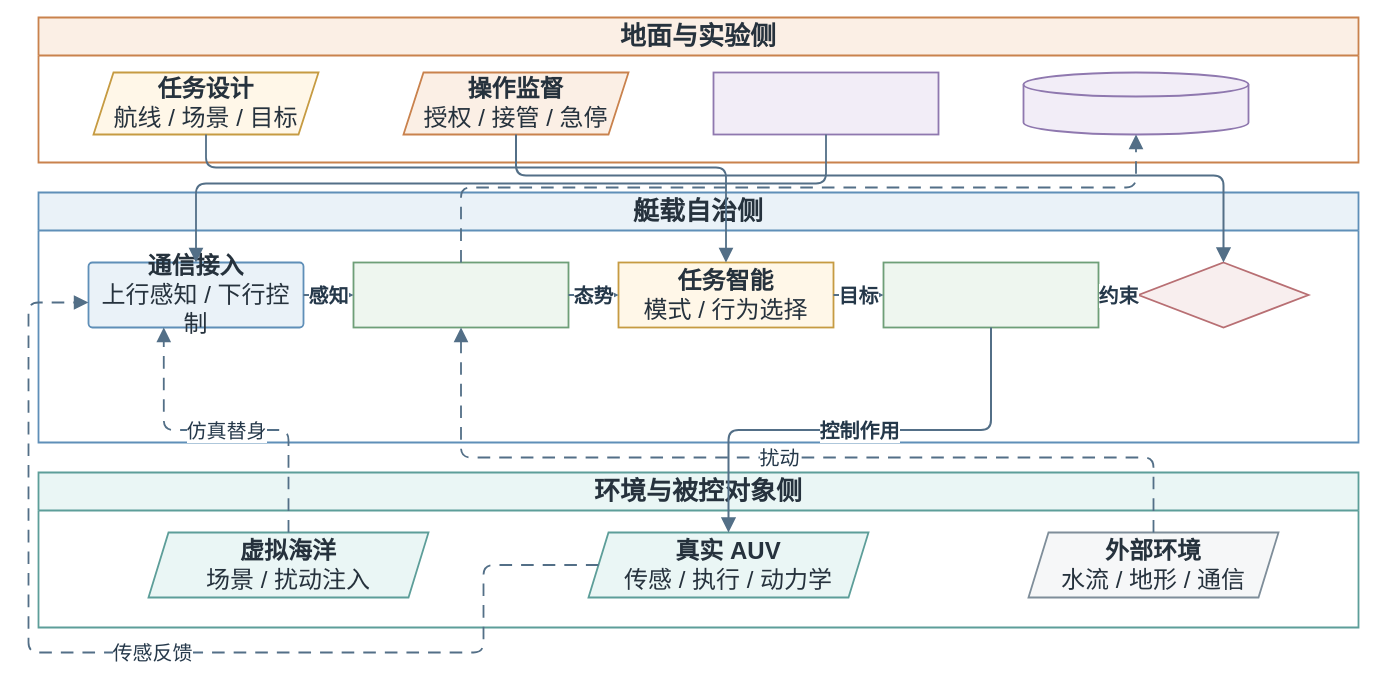
Image size: 1377x683. Some labels were removed from this diagram. Here are the shapes that lost their labels. From the top down, the centre of each, then its label:
At point 825,103: "实验管理 启动 / 记录 / 评估".
At point 1135,103: "可视化分析 态势 / 图表 / 报告".
At point 460,294: "状态理解 定位 / 健康 / 置信度".
At point 990,294: "运动执行 控制 / 安全限幅".
At point 1223,294: "安全治理 权限 / 故障回退".
